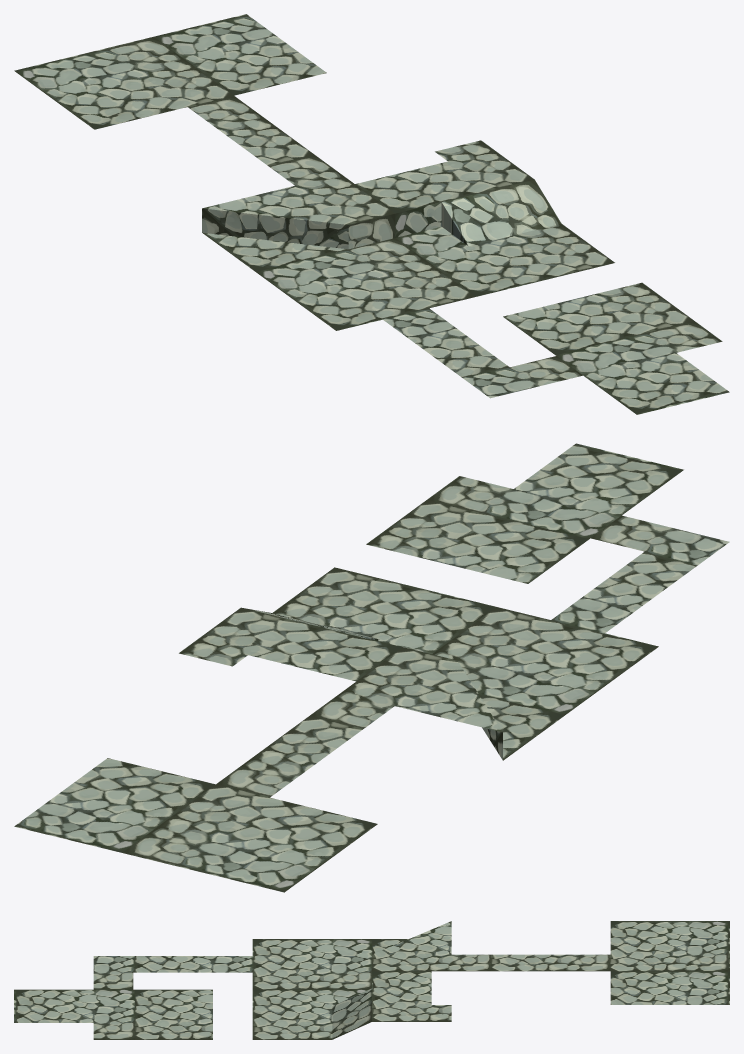
Rendered from yuka_s01.fbx.
3 renders of one model, top to bottom at view 1: azimuth 30°, elevation 25°; view 2: azimuth 150°, elevation 25°; view 3: azimuth 270°, elevation 25°, orthographic. The views are drawn at different scales.
Parts seen in each view (by area): view 1: pPlane6; view 2: pPlane6; view 3: pPlane6.
Part boxes in pixels (left/top/right/bottom): pPlane6: left=14, top=14, right=729, bottom=414; pPlane6: left=14, top=443, right=729, bottom=892; pPlane6: left=14, top=921, right=729, bottom=1039.
Size of the model in its own units: 6 by 0.5 by 18.
